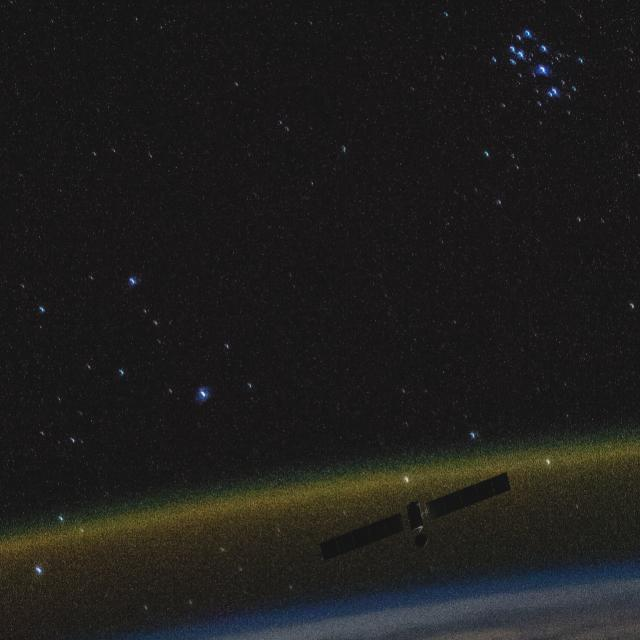satellite: (297, 462, 529, 570)
